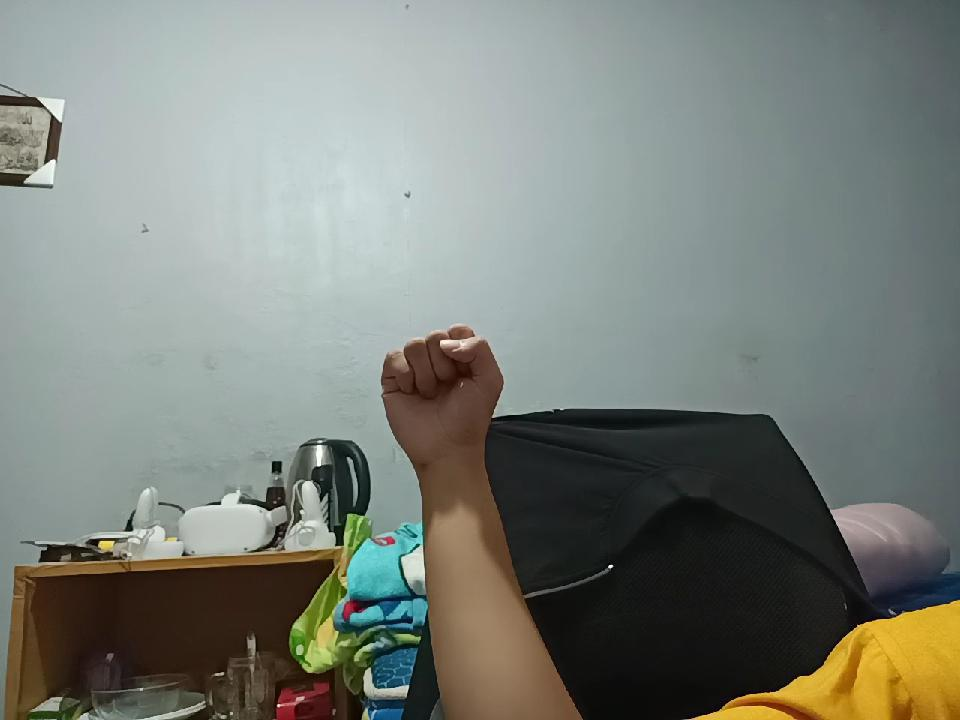rock: (380, 323, 502, 469)
